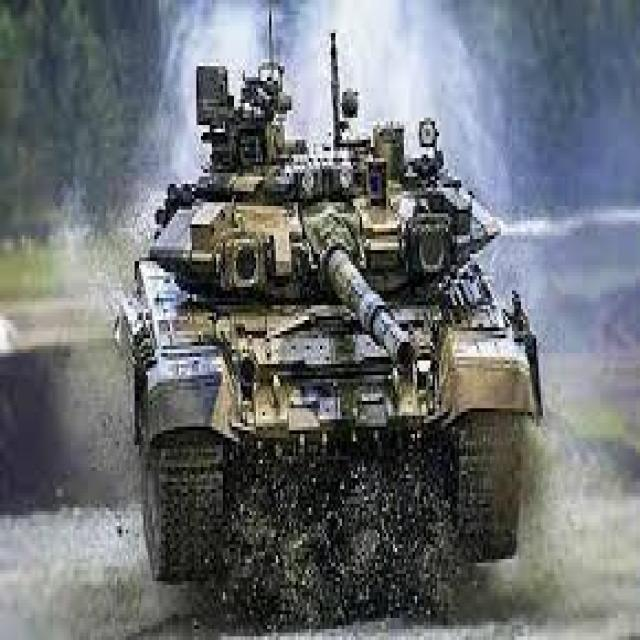MIL_MBT: (135, 97, 530, 572)
